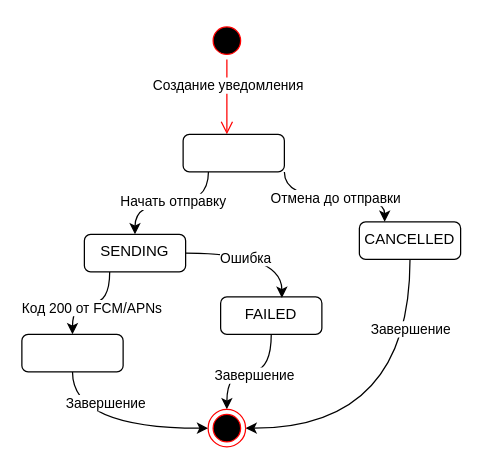
This 483x469 diagram has some shape labels left out. Here are the shapes that lost their labels. From the top down, the centre of each, then its label:
At point (233, 152): "CREATED".
At point (72, 352): "DELIVERED".
